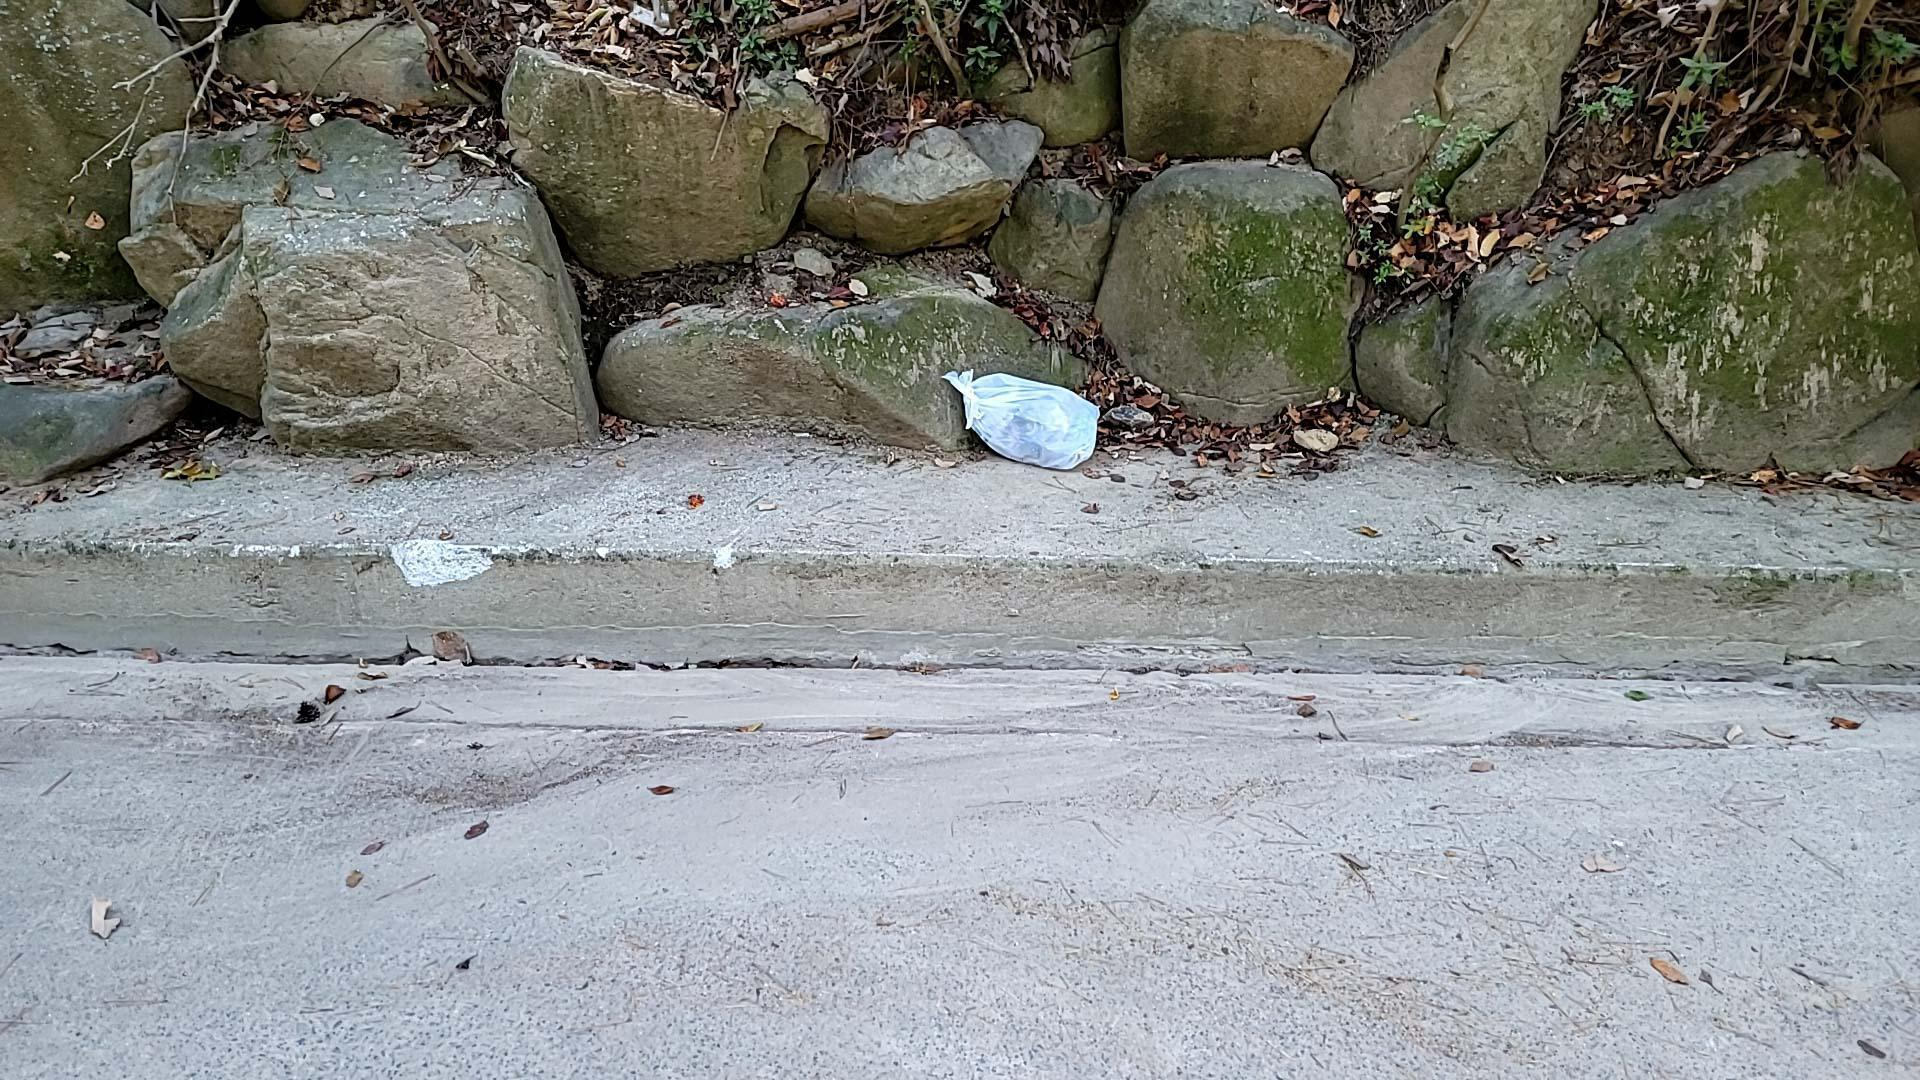white_bag: (938, 353, 1112, 479)
